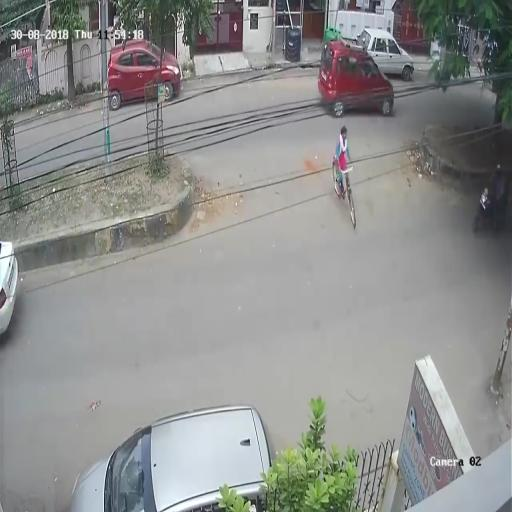小汽车: (65, 402, 277, 510), (317, 39, 399, 121), (103, 38, 185, 109), (358, 24, 416, 84)
自行车: (329, 128, 365, 226)
